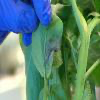Potato leaf early blight: (30, 8, 64, 79)
